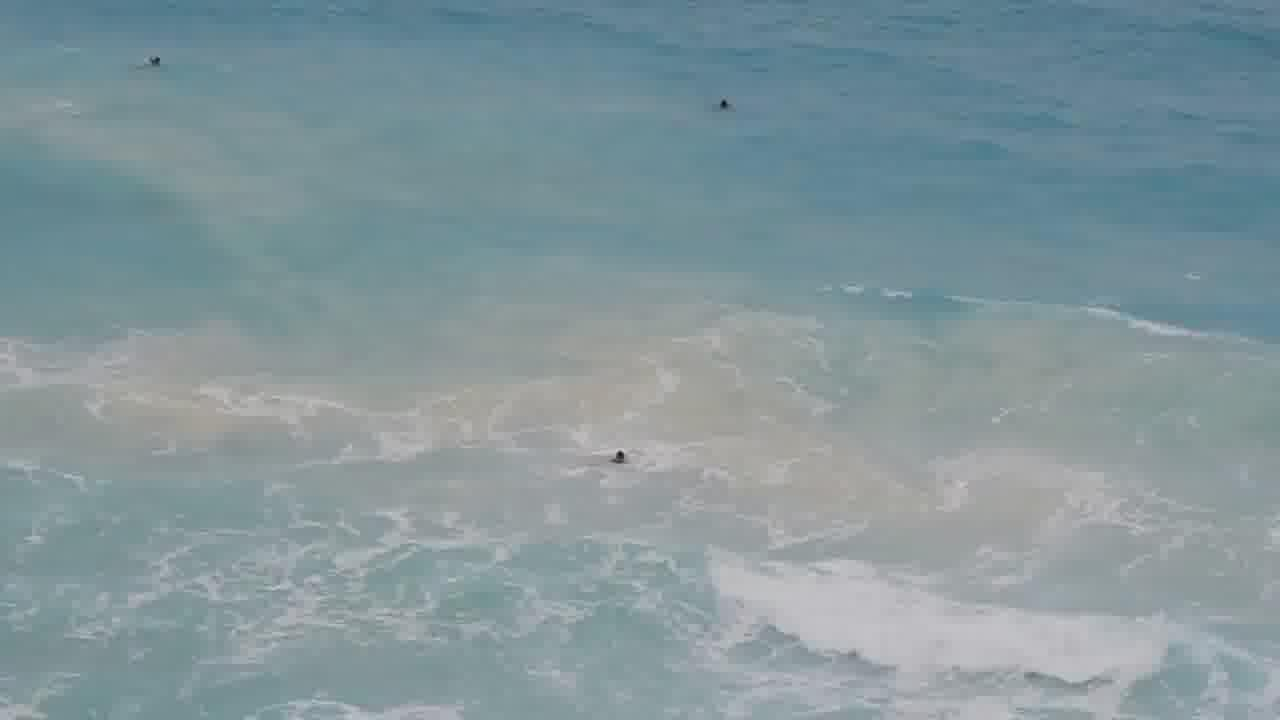human: (592, 438, 655, 473), (128, 48, 175, 83), (700, 86, 746, 117)
